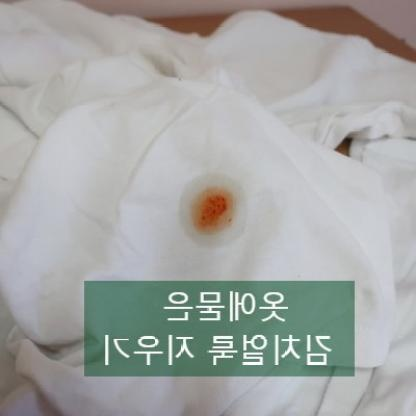kimchi: (191, 179, 244, 238)
